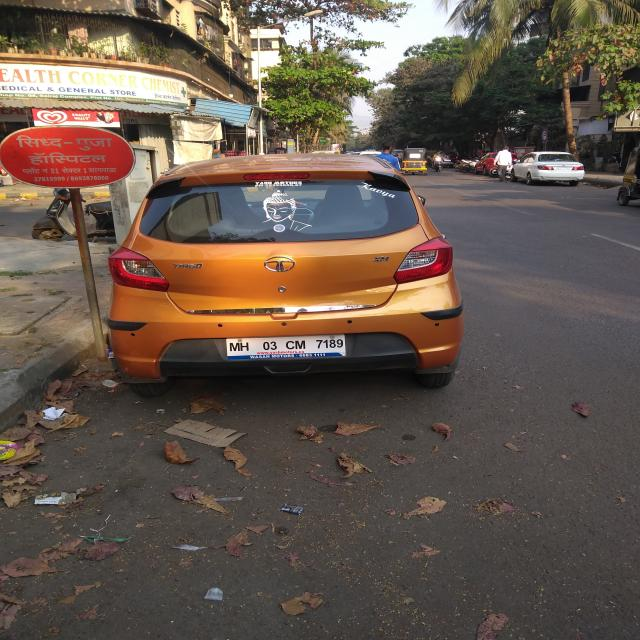Number-Plate: (230, 335, 346, 355)
